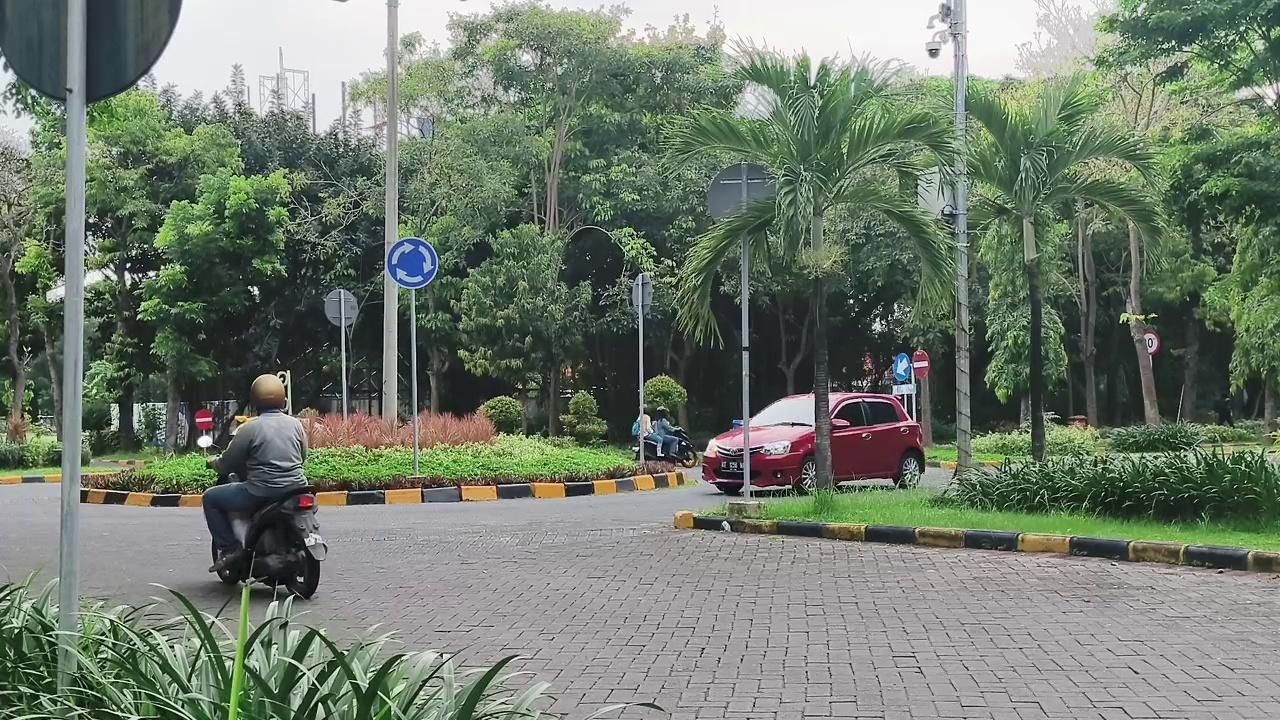Helmet: (202, 374, 307, 571)
Motor: (217, 487, 326, 598), (645, 426, 697, 467)
